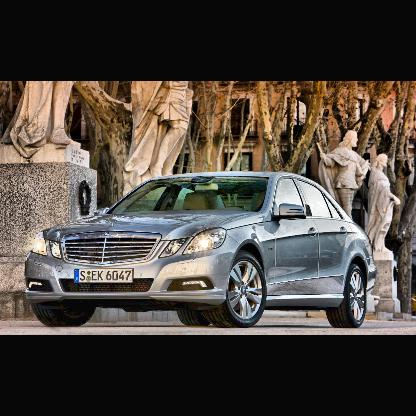Mercedes-Benz E-Class Sedan 2012: (27, 172, 378, 329)
